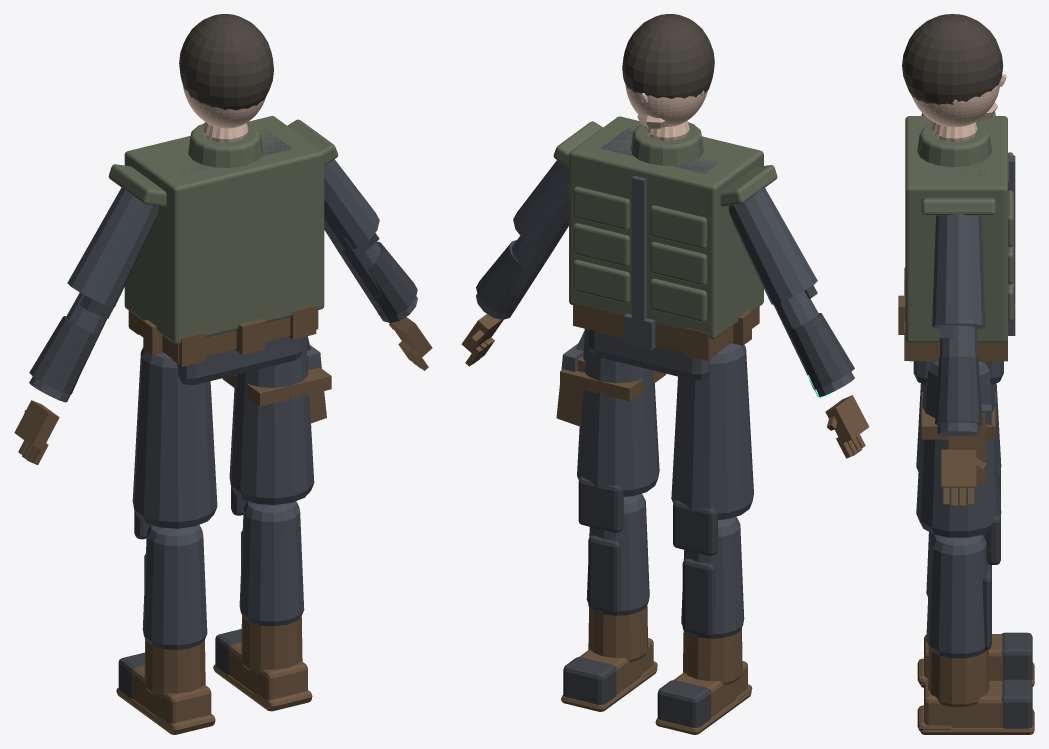
File: cantina_16_cantina_patron.glb
3 views of the same model, side by side, from view 1: azimuth 30°, elevation 25°; view 2: azimuth 150°, elevation 25°; view 3: azimuth 270°, elevation 25° (orthographic). The views are drawn at different scales.
Parts seen in each view (by area): view 1: Patron_Trousers, Patron_TacticalVest, Patron_FlightBoots, Patron_ArmsSuit, Patron_Hair, Patron_UtilityBelt, Patron_Gauntlets, Patron_FlightGloves, Patron_LegArmor, Patron_Head; view 2: Patron_TacticalVest, Patron_Trousers, Patron_LegArmor, Patron_ArmsSuit, Patron_FlightBoots, Patron_Hair, Patron_UtilityBelt, Patron_Gauntlets, Patron_FlightGloves, Patron_Head, Patron_VestHardware, Patron_BeltHardware (+1 smaller); view 3: Patron_TacticalVest, Patron_Trousers, Patron_FlightBoots, Patron_Hair, Patron_ArmsSuit, Patron_LegArmor, Patron_UtilityBelt, Patron_Gauntlets, Patron_Head, Patron_FlightGloves, Patron_VestHardware.
Boxes of the visible parts, bbox=[...] form: Patron_Trousers: bbox=[132, 336, 314, 649]; Patron_TacticalVest: bbox=[108, 116, 338, 344]; Patron_FlightBoots: bbox=[116, 616, 312, 734]; Patron_ArmsSuit: bbox=[29, 159, 417, 402]; Patron_Hair: bbox=[179, 14, 273, 110]; Patron_UtilityBelt: bbox=[128, 305, 331, 423]; Patron_Gauntlets: bbox=[29, 233, 417, 394]; Patron_FlightGloves: bbox=[14, 317, 432, 464]; Patron_LegArmor: bbox=[118, 486, 247, 698]; Patron_Head: bbox=[182, 84, 266, 142]; Patron_TacticalVest: bbox=[553, 116, 777, 339]; Patron_Trousers: bbox=[577, 329, 753, 638]; Patron_LegArmor: bbox=[563, 476, 717, 728]; Patron_ArmsSuit: bbox=[476, 160, 854, 396]; Patron_FlightBoots: bbox=[561, 605, 752, 734]; Patron_Hair: bbox=[622, 14, 714, 98]; Patron_UtilityBelt: bbox=[556, 303, 759, 426]; Patron_Gauntlets: bbox=[476, 240, 854, 389]; Patron_FlightGloves: bbox=[461, 314, 869, 458]; Patron_Head: bbox=[625, 84, 707, 140]; Patron_VestHardware: bbox=[631, 175, 646, 326]; Patron_BeltHardware: bbox=[623, 313, 656, 350]; Patron_TacticalVest: bbox=[905, 112, 1013, 342]; Patron_Trousers: bbox=[913, 361, 1003, 658]; Patron_FlightBoots: bbox=[917, 634, 1034, 734]; Patron_Hair: bbox=[902, 14, 1003, 104]; Patron_ArmsSuit: bbox=[932, 212, 985, 436]; Patron_LegArmor: bbox=[982, 465, 1032, 728]; Patron_UtilityBelt: bbox=[898, 267, 1007, 484]; Patron_Gauntlets: bbox=[935, 325, 982, 425]; Patron_Head: bbox=[912, 74, 1006, 141]; Patron_FlightGloves: bbox=[941, 449, 986, 505]; Patron_VestHardware: bbox=[1009, 155, 1015, 304].
Bounding box in the file's own units: 1.12 × 1.84 × 0.3325.
